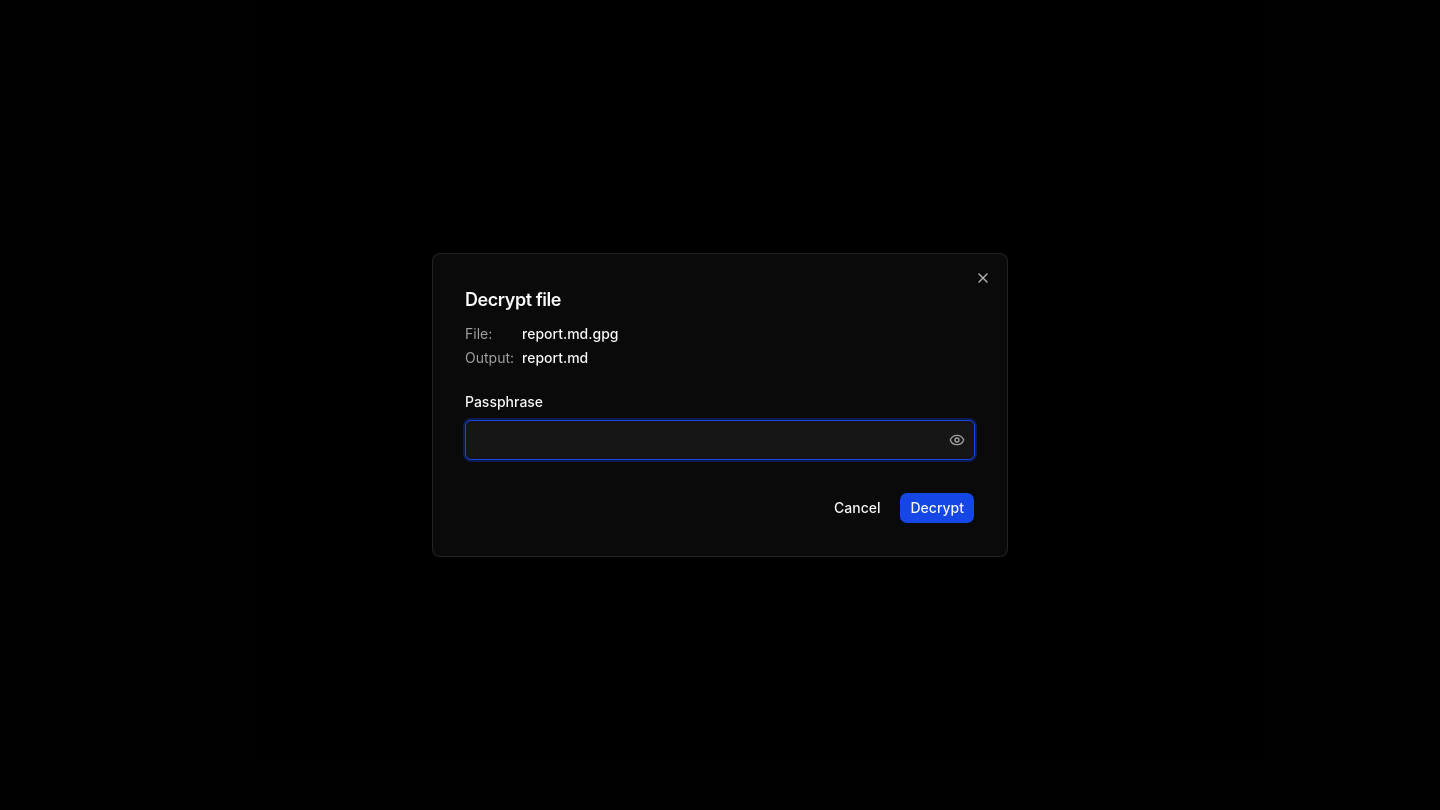
Test: DecryptDialog › Decrypt and Cancel buttons are disabled and progress bar shown while loading
Type "mypassword" into the password field labelled "Passphrase" at (720, 440), box [465,420,975,460]
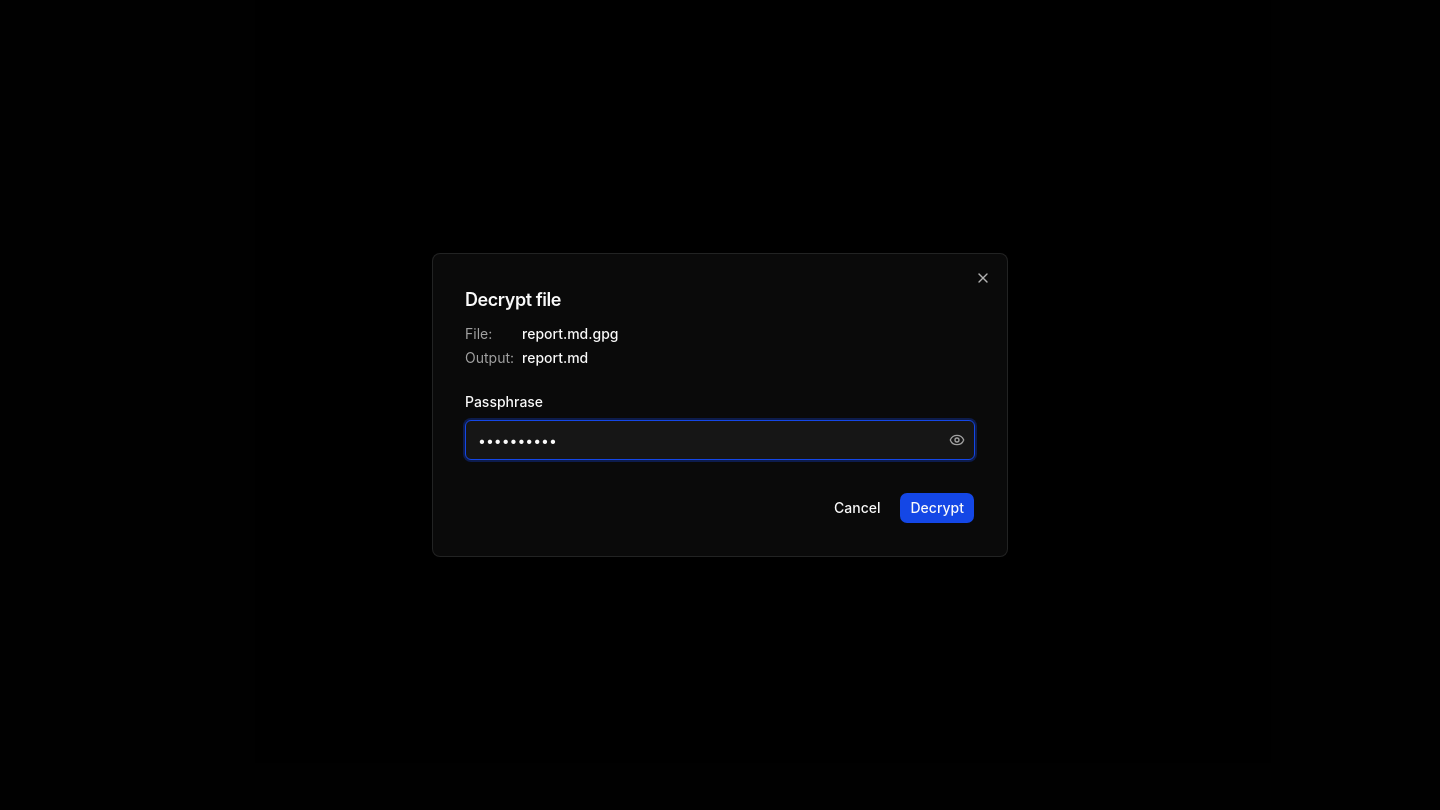
Click the button "Decrypt" at (937, 508), box [900,492,975,524]
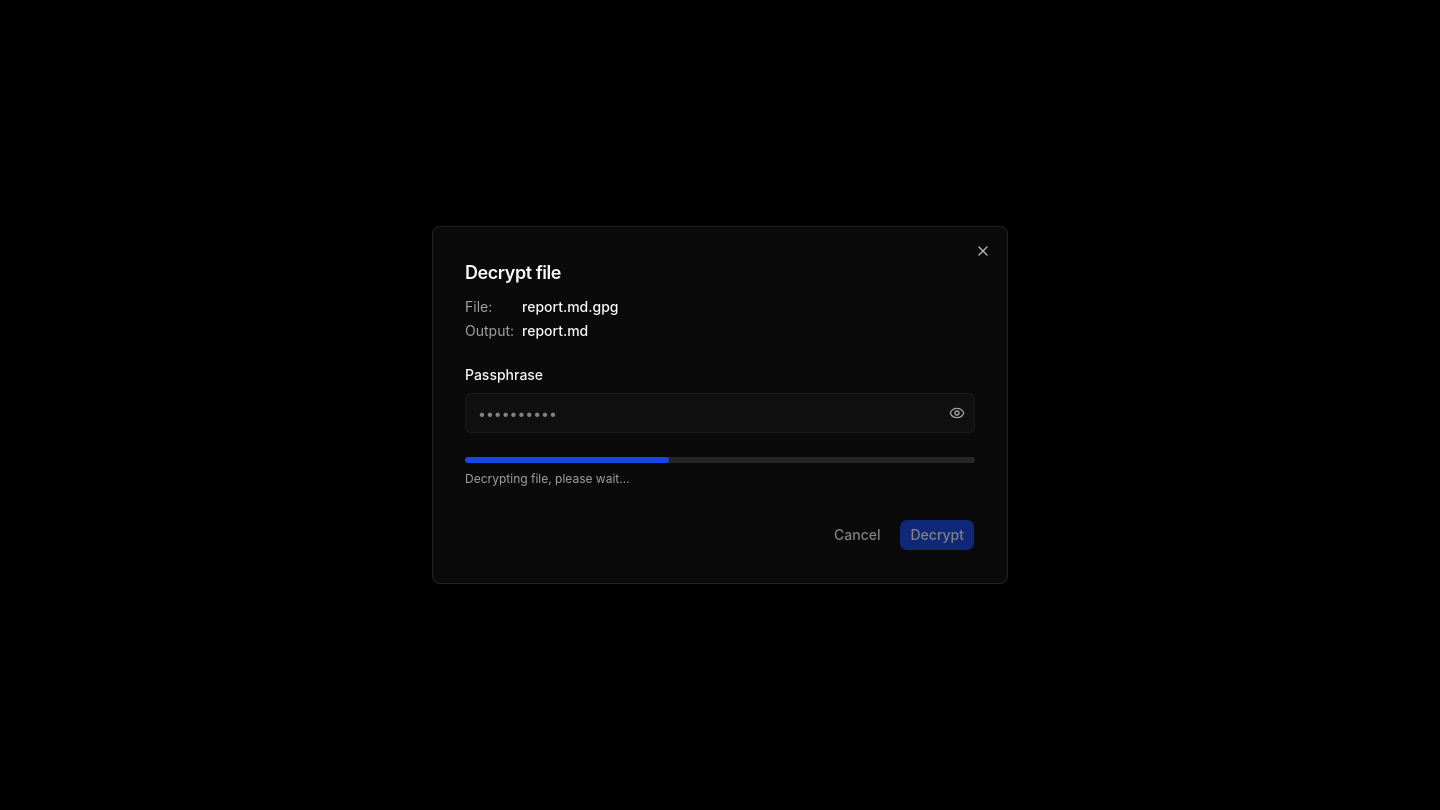
Now the button "Decrypt" is disabled, box [900,519,975,551]
Now the button "Cancel" is disabled, box [823,519,892,551]
Now the progress indicator is shown, box [465,457,975,463]
